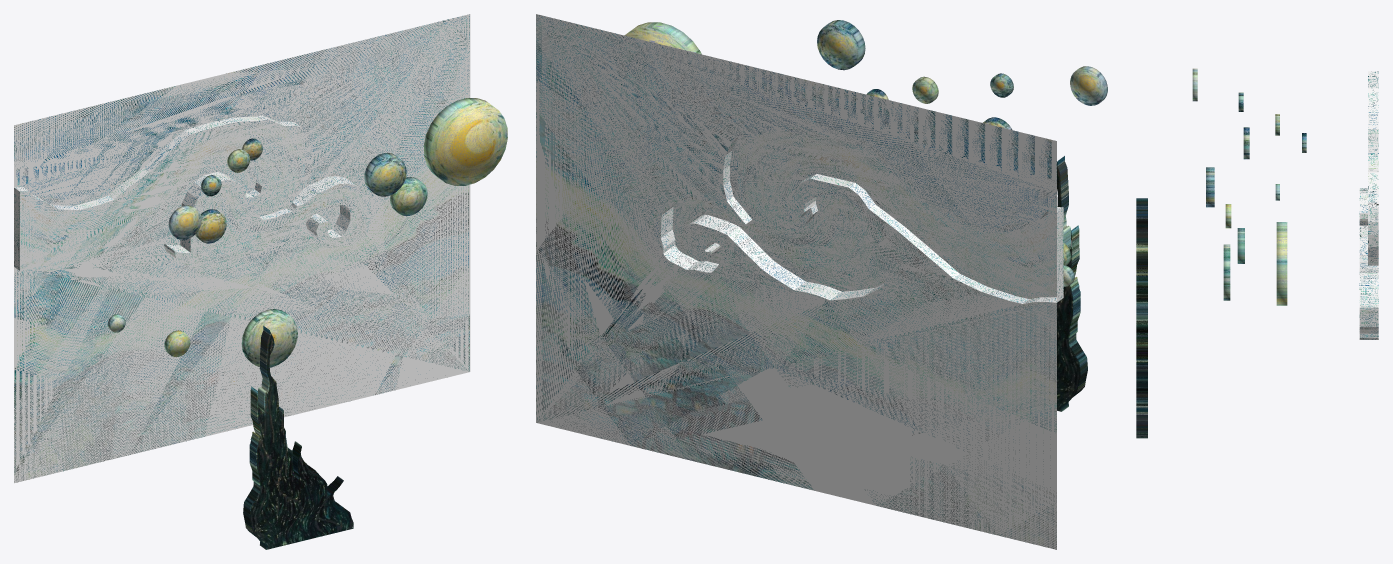
The picture shows the model from 3 angles, left to right: view 1: azimuth 30°, elevation 25°; view 2: azimuth 150°, elevation 25°; view 3: azimuth 270°, elevation 25°; orthographic projection. The views are drawn at different scales.
Parts seen in each view (by area): view 1: SketchUp (×2), group_0 (×6); view 2: SketchUp (×2), group_0 (×3); view 3: SketchUp (×2), group_0 (×3).
Part boxes in pixels (bbox=[...]): SketchUp (×2): bbox=[14, 14, 470, 549]; group_0 (×6): bbox=[168, 98, 507, 367]; SketchUp (×2): bbox=[536, 14, 1087, 549]; group_0 (×3): bbox=[624, 20, 1107, 105]; SketchUp (×2): bbox=[1136, 71, 1378, 438]; group_0 (×3): bbox=[1206, 167, 1287, 305].
Size of the model in its own units: 630 by 314 by 472.
